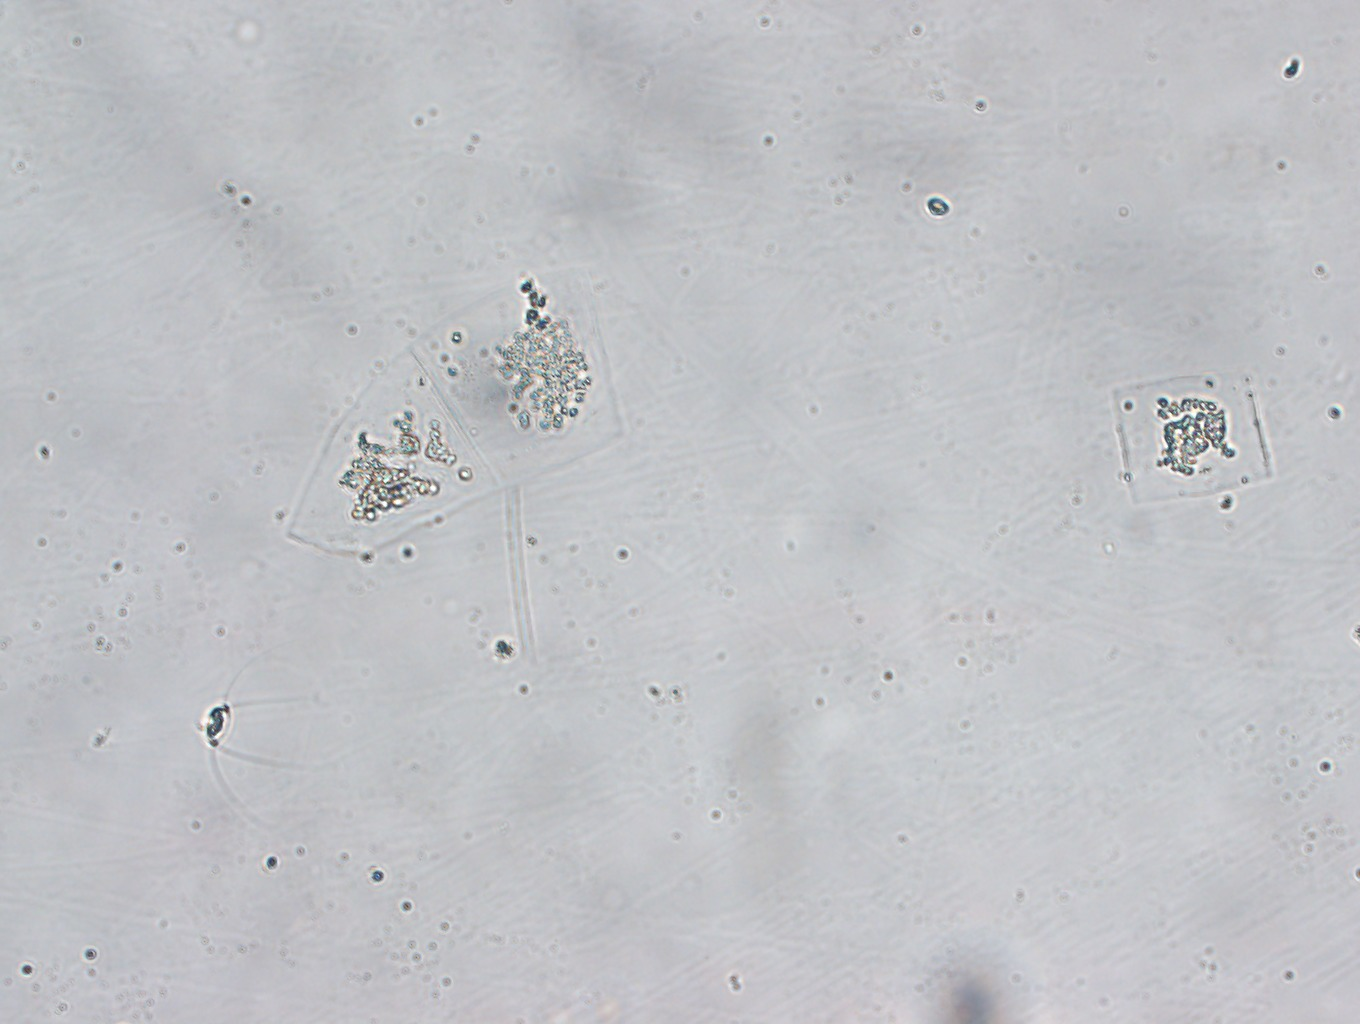chaetoceros: (201, 655, 364, 820)
helicotheca: (284, 272, 621, 560), (1108, 367, 1274, 503)
